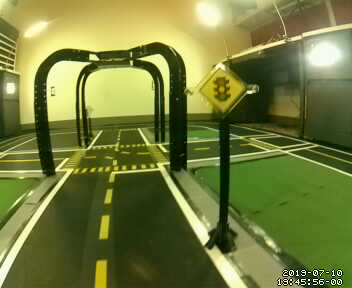Traffic light sign: (200, 69, 243, 112)
